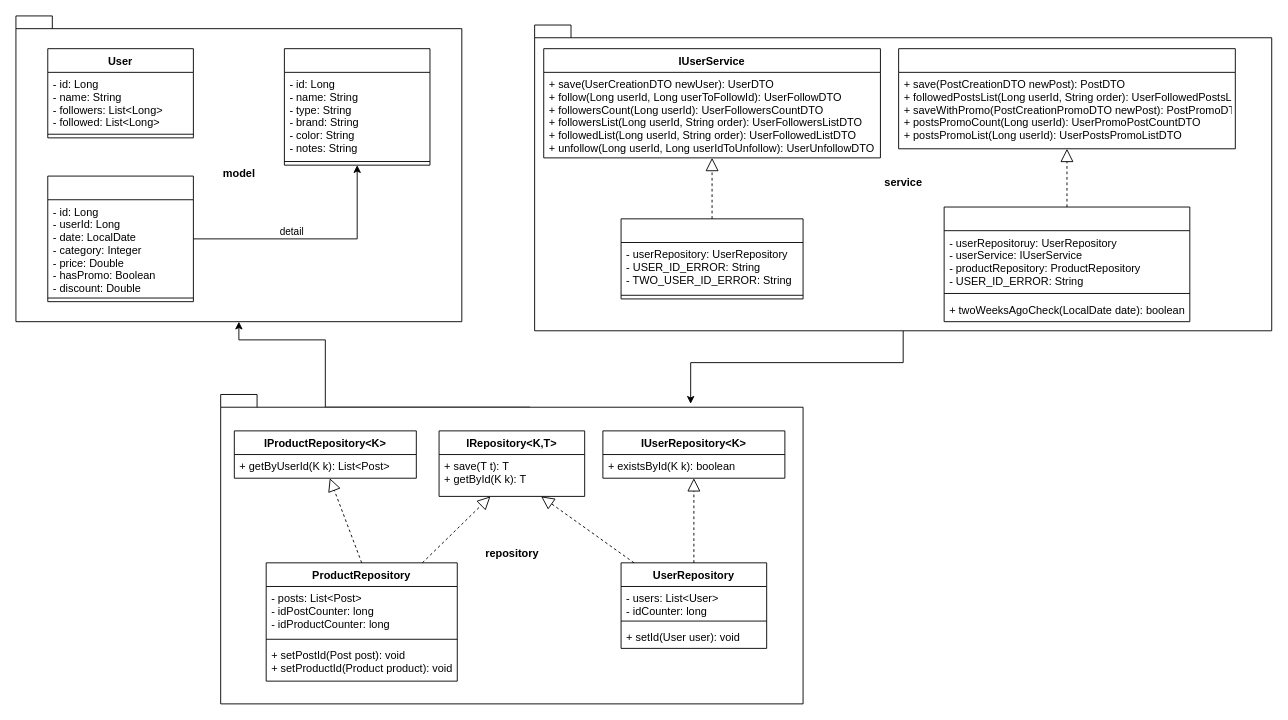
Image size: 1288x720. Some labels were removed from this diagram. The shapes that lost their labels are listed below. From the top down, each one's box as (x1, y1, x2, y2) in pixels, then its label:
(283, 48, 430, 165): Product
(898, 48, 1235, 149): IProductService
(47, 175, 193, 302): Post
(620, 218, 803, 299): UserService
(943, 206, 1190, 322): ProductService
